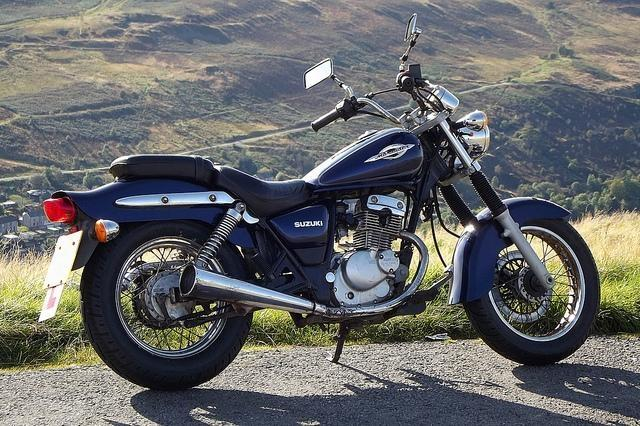motorcycle: (38, 16, 602, 394)
